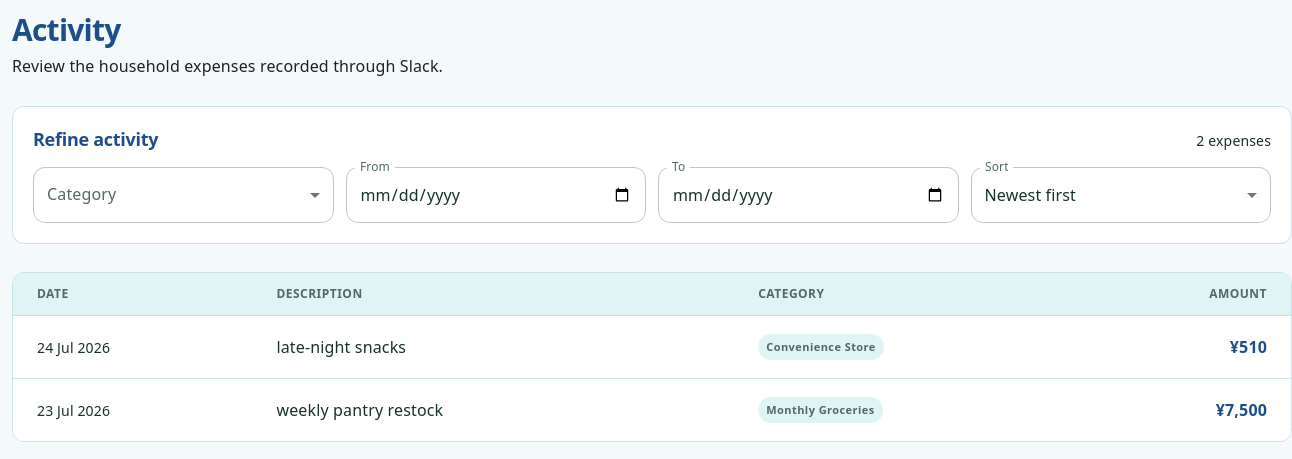
Test: ActivityPage › filters expenses by an inclusive date range
Type "2026-07-24" into the date field labelled "From" at (496, 195), box [346,167,646,223]
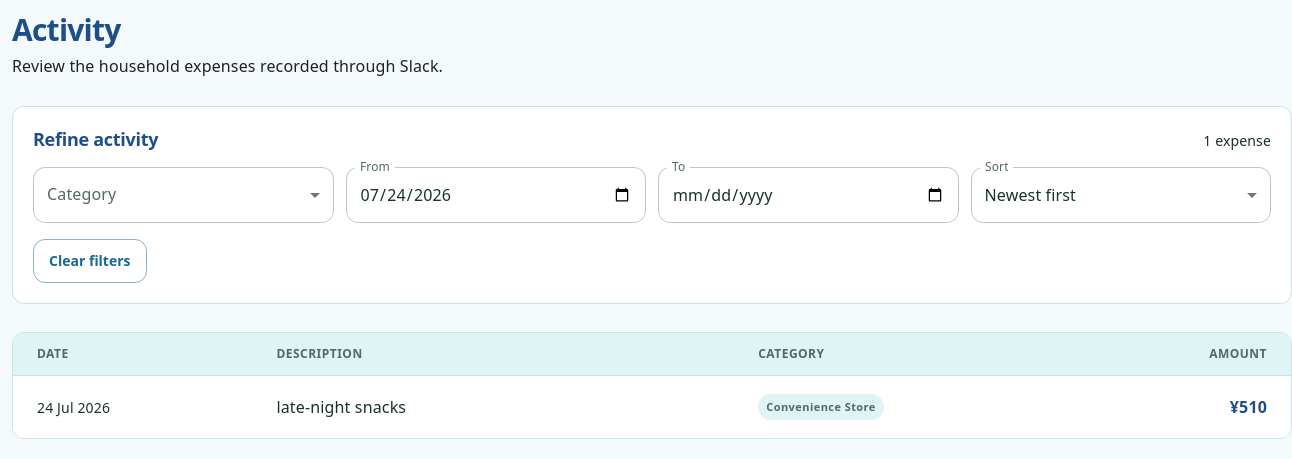
Expected: the text "late-night snacks" is shown, [276,396,406,418]
Now the text "weekly pantry restock" is gone
Now the text "1 expense" is shown, box [1203,130,1271,151]
